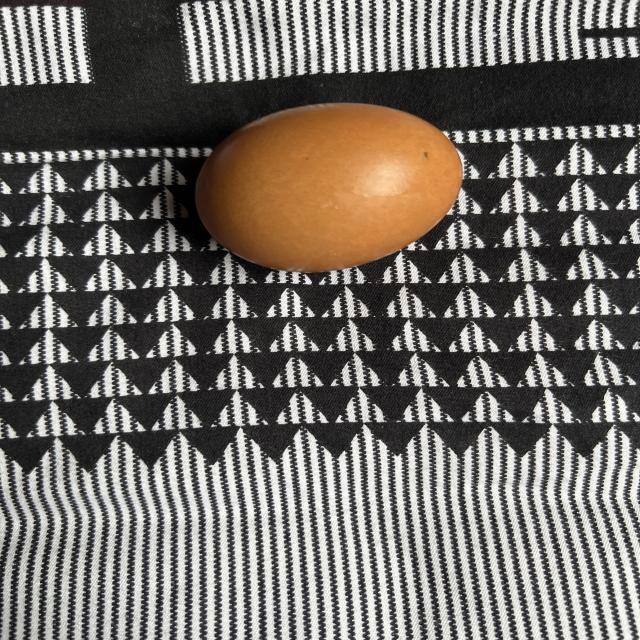Egg: (189, 99, 466, 274)
